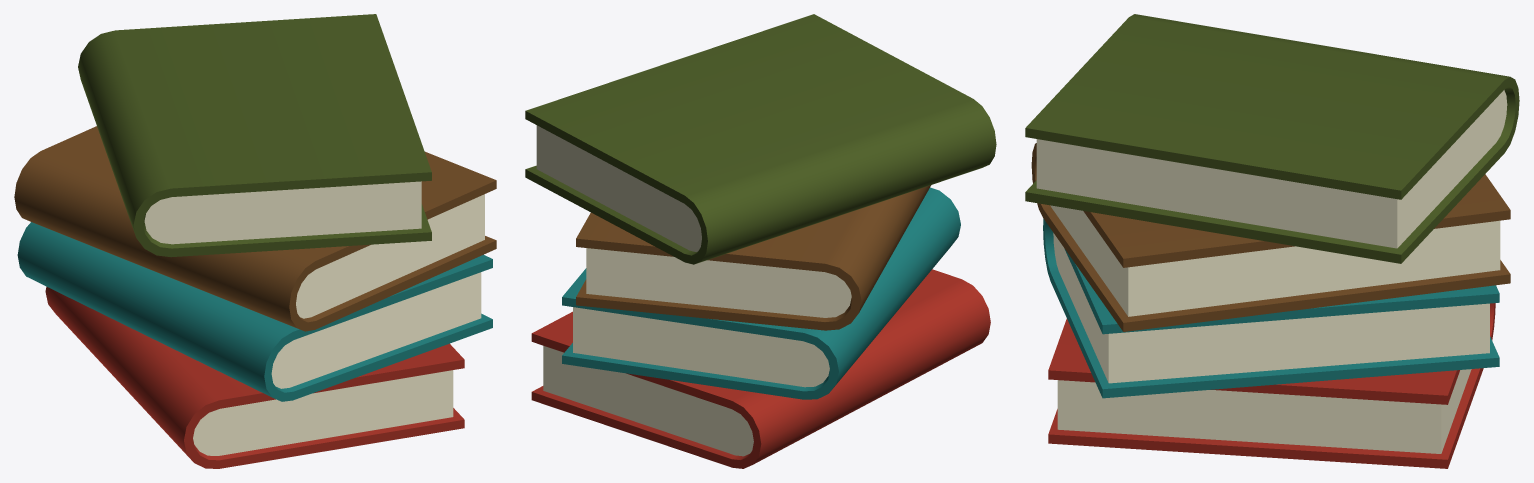
The picture shows the model from 3 angles, left to right: view 1: azimuth 30°, elevation 25°; view 2: azimuth 150°, elevation 25°; view 3: azimuth 270°, elevation 25°; orthographic projection. The views are drawn at different scales.
Parts seen in each view (by area): view 1: SmallStackOfBooks; view 2: SmallStackOfBooks; view 3: SmallStackOfBooks.
Part boxes in pixels (x1,y1,x2,y2): SmallStackOfBooks: (14, 14, 496, 468); SmallStackOfBooks: (525, 14, 996, 468); SmallStackOfBooks: (1025, 14, 1519, 468).
Size of what is drawn, in the model's own units: 0.3692 by 0.2664 by 0.4072.
1 material, 1 textured.
